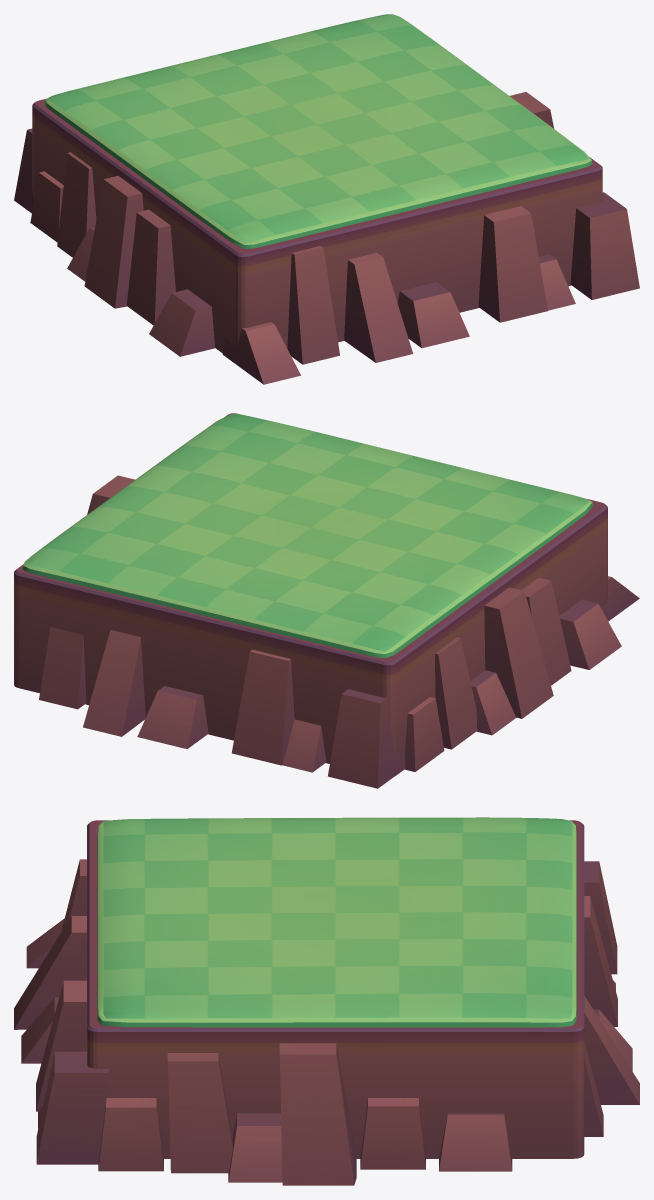
The model's file is PlatfromLarge.fbx.
3 views of the same model, one above another, from view 1: azimuth 30°, elevation 25°; view 2: azimuth 150°, elevation 25°; view 3: azimuth 270°, elevation 25° (orthographic). The views are drawn at different scales.
Parts seen in each view (by area): view 1: PlatfromLarge, birch_red_mat-material_50, birch_red_mat-material_40, birch_red_mat-material_51, birch_red_mat-material_46.001, birch_red_mat-material_54, birch_red_mat-material_44.002, birch_red_mat-material_45, birch_red_mat-material_47.002, birch_red_mat-material_53, birch_red_mat-material_44.001, birch_red_mat-material_49.001 (+4 smaller); view 2: PlatfromLarge, birch_red_mat-material_46.001, birch_red_mat-material_50.001, birch_red_mat-material_40.001, birch_red_mat-material_51.001, birch_red_mat-material_44.001, birch_red_mat-material_45.001, birch_red_mat-material_54.001, birch_red_mat-material_47.002, birch_red_mat-material_44.002, birch_red_mat-material_49.001, birch_red_mat-material_47.001 (+3 smaller); view 3: PlatfromLarge, birch_red_mat-material_46, birch_red_mat-material_44, birch_red_mat-material_40, birch_red_mat-material_49, birch_red_mat-material_49.002, birch_red_mat-material_47.003, birch_red_mat-material_51, birch_red_mat-material_47, birch_red_mat-material_51.001, birch_red_mat-material_50, birch_red_mat-material_50.001 (+6 smaller).
Part boxes in pixels (x1,y1,x2,y2): PlatfromLarge: (32,14,602,352); birch_red_mat-material_50: (478,206,547,322); birch_red_mat-material_40: (570,192,639,299); birch_red_mat-material_51: (344,252,413,362); birch_red_mat-material_46.001: (84,176,143,308); birch_red_mat-material_54: (287,246,339,364); birch_red_mat-material_44.002: (127,209,175,325); birch_red_mat-material_45: (397,282,469,348); birch_red_mat-material_47.002: (149,289,215,356); birch_red_mat-material_53: (222,322,300,384); birch_red_mat-material_44.001: (57,152,96,257); birch_red_mat-material_49.001: (30,171,63,242); PlatfromLarge: (14,413,607,775); birch_red_mat-material_46.001: (484,587,553,718); birch_red_mat-material_50.001: (231,649,294,765); birch_red_mat-material_40.001: (328,689,405,788); birch_red_mat-material_51.001: (83,630,145,736); birch_red_mat-material_44.001: (435,637,477,749); birch_red_mat-material_45.001: (137,686,208,749); birch_red_mat-material_54.001: (39,627,86,709); birch_red_mat-material_47.002: (559,599,621,669); birch_red_mat-material_44.002: (522,577,571,685); birch_red_mat-material_49.001: (404,697,444,771); birch_red_mat-material_47.001: (470,670,516,735); PlatfromLarge: (87,817,584,1158); birch_red_mat-material_46: (279,1043,356,1185); birch_red_mat-material_44: (167,1053,232,1173); birch_red_mat-material_40: (36,1051,108,1164); birch_red_mat-material_49: (98,1098,163,1171); birch_red_mat-material_49.002: (360,1098,425,1169); birch_red_mat-material_47.003: (439,1113,512,1171); birch_red_mat-material_51: (14,916,86,1029); birch_red_mat-material_47: (228,1113,282,1182); birch_red_mat-material_51.001: (584,996,639,1104); birch_red_mat-material_50: (36,980,86,1111); birch_red_mat-material_50.001: (584,896,617,1026).
Bounding box in the file's own units: 12.08 × 3.12 × 12.43.
